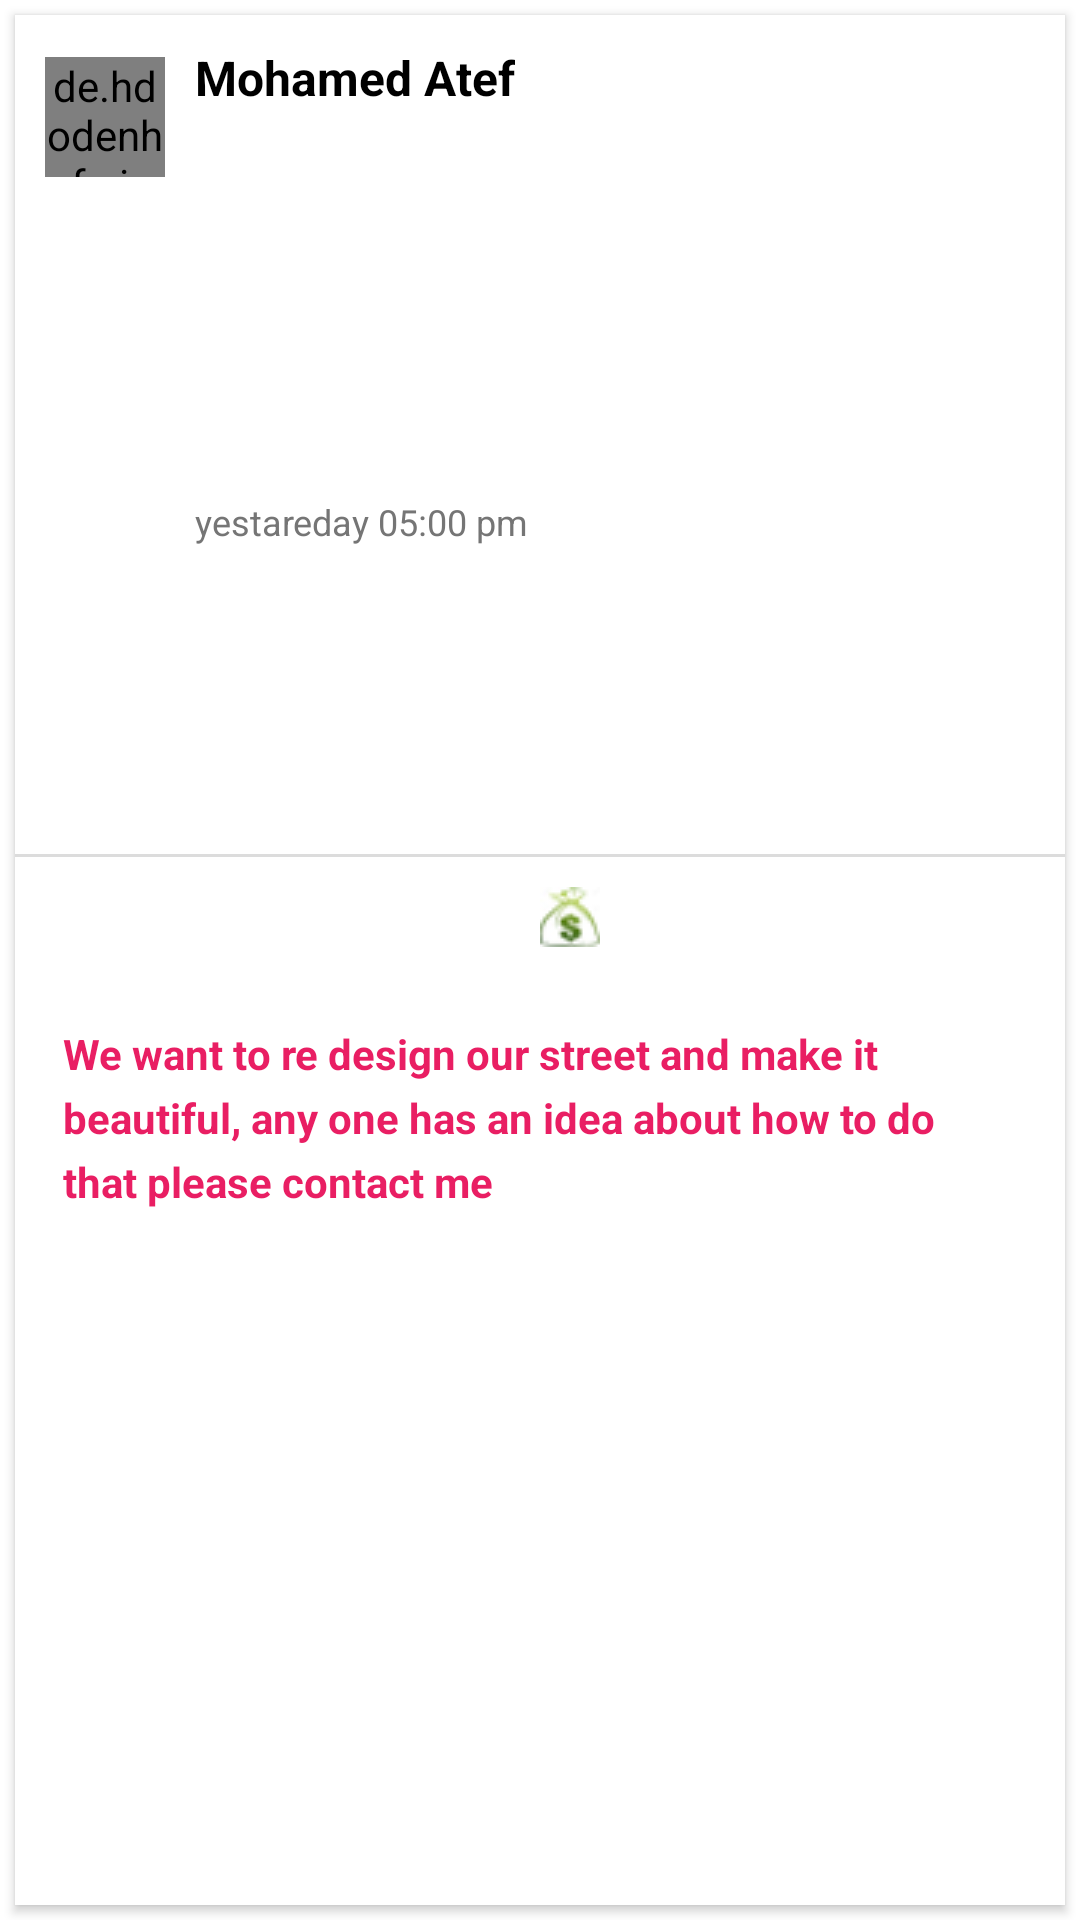

Point at icon controls on the screen. Image size 1080 × 1920, points as [x,y].
dollar sign: [570,917]
